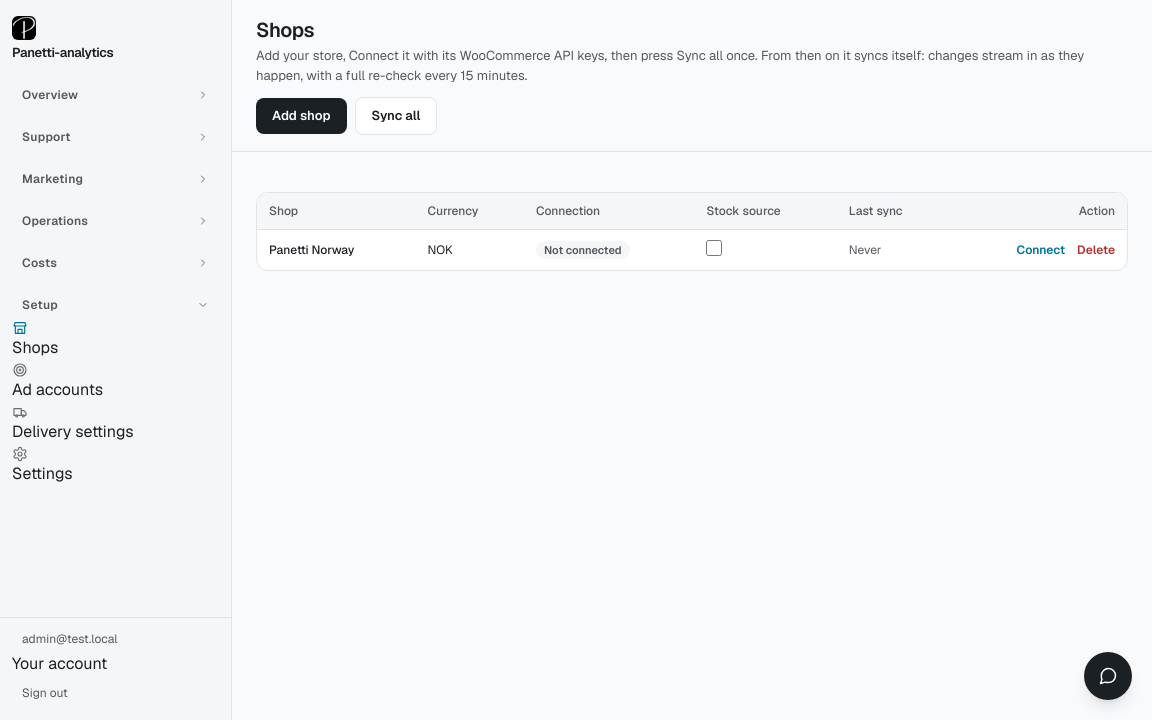
Scenario: ShopsClient › deletes a shop and says so
Click the button "Delete". click: (1096, 250)
box: [1077,242,1115,258]
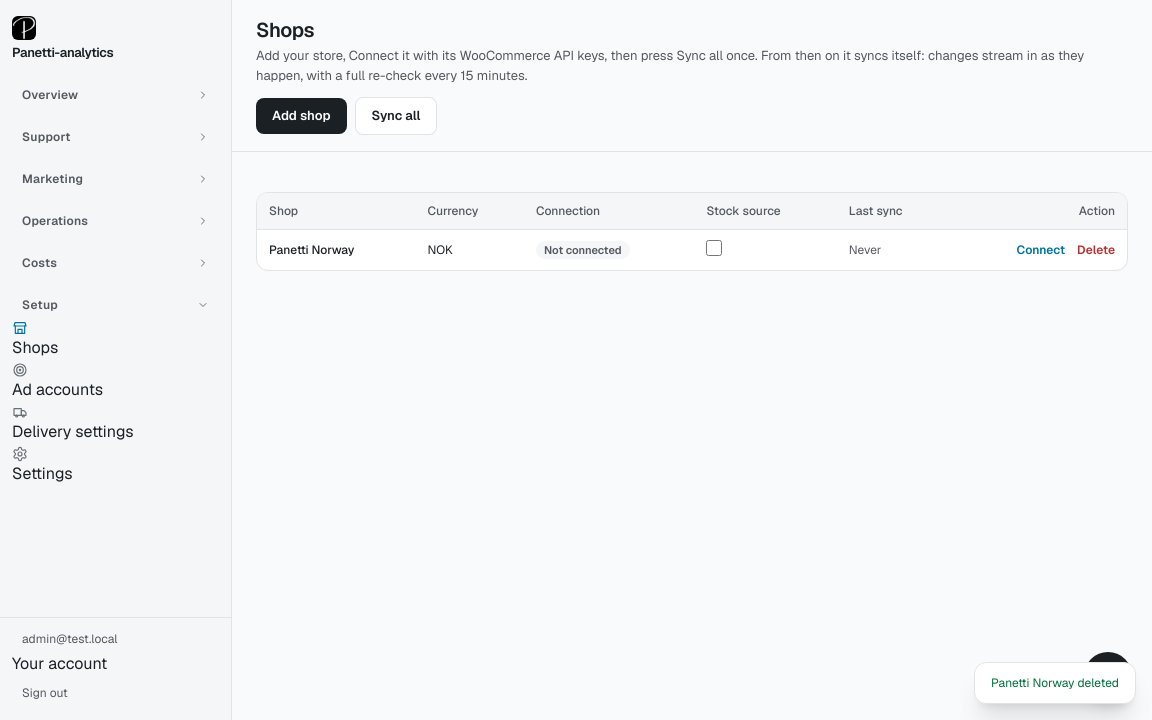
Expected: the button "Panetti Norway deleted" is shown, [974,662,1136,704]
